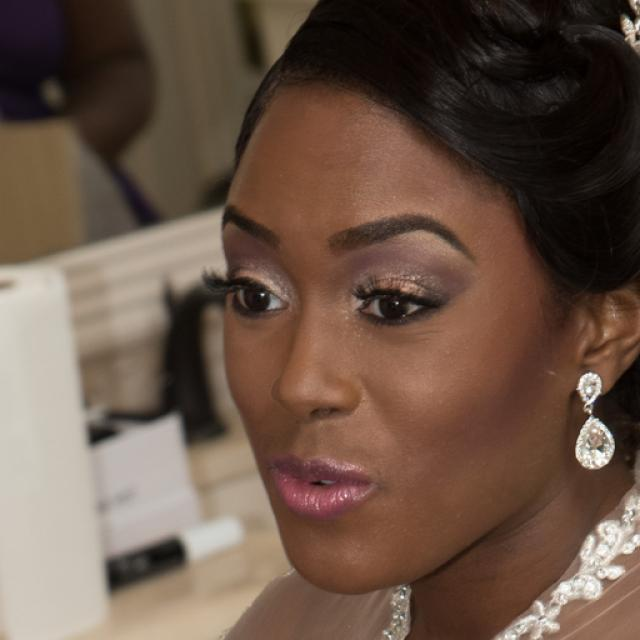surprise: (215, 74, 576, 596)
